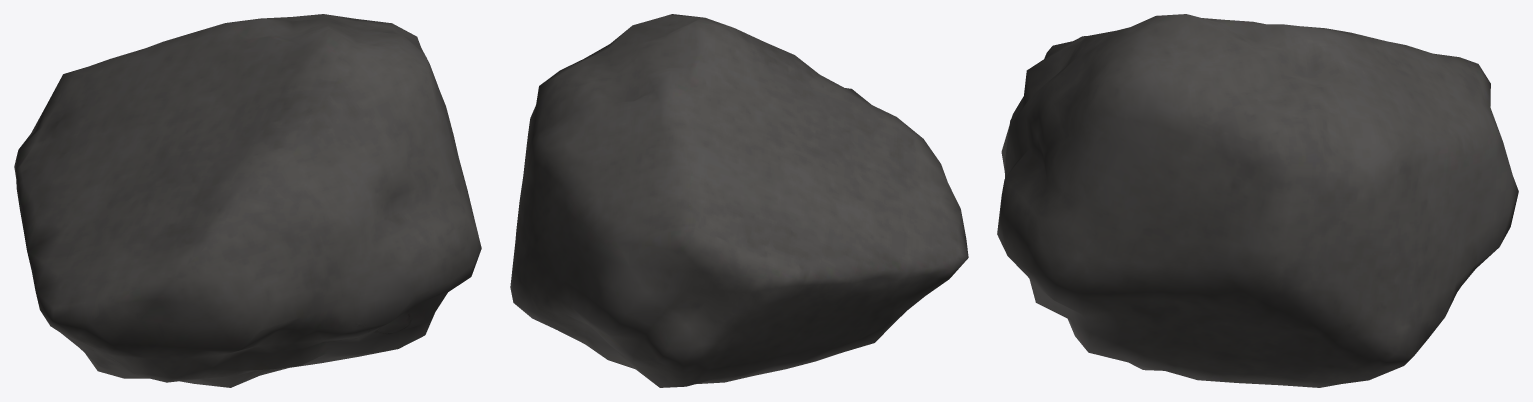
File: rock-dark-basalt.glb
3 renders of one model, left to right at view 1: azimuth 30°, elevation 25°; view 2: azimuth 150°, elevation 25°; view 3: azimuth 270°, elevation 25°, orthographic. The views are drawn at different scales.
Visible parts, largest first — view 1: stone; view 2: stone; view 3: stone.
Part boxes in pixels (<box>): stone: <box>14,14,481,387</box>; stone: <box>510,14,968,387</box>; stone: <box>997,14,1518,387</box>.
Bounding box in the file's own units: 0.6766 × 0.4556 × 0.6339.
Materials: 1 (1 with a texture image).
